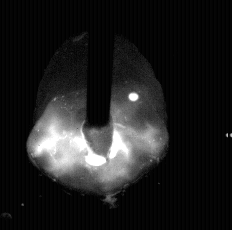arame: (88, 0, 111, 128)
poca: (26, 0, 169, 230)
